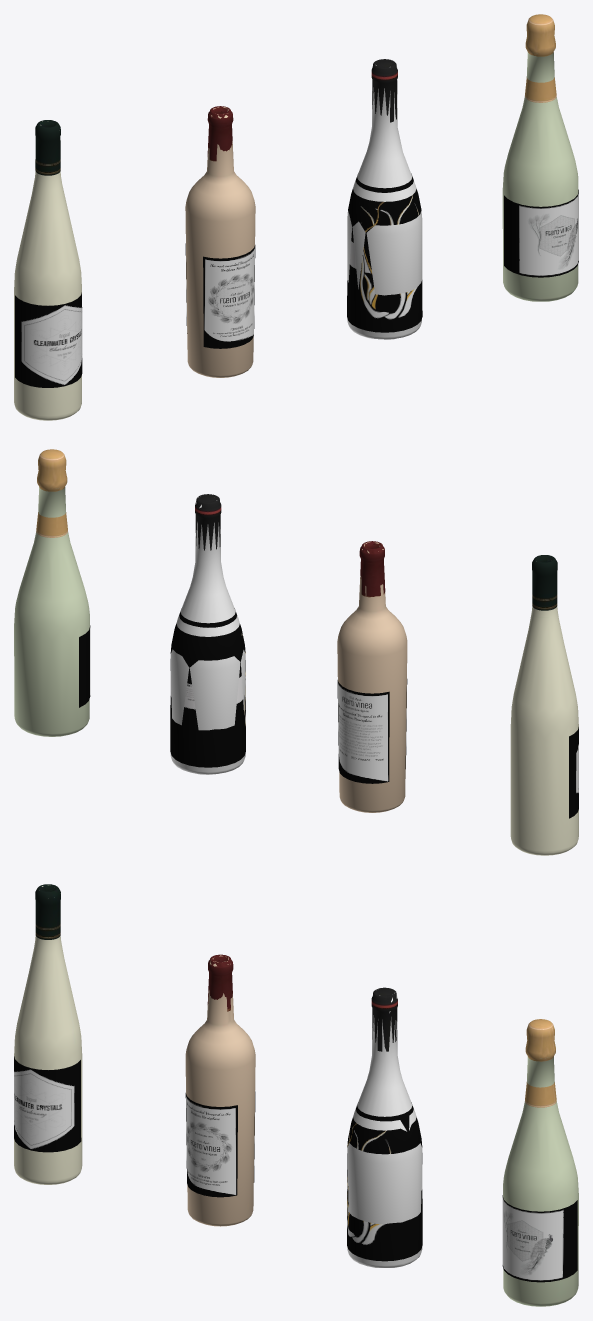
The model's file is wine_bottles_01.glb.
3 renders of one model, top to bottom at view 1: azimuth 30°, elevation 25°; view 2: azimuth 150°, elevation 25°; view 3: azimuth 330°, elevation 25°, orthographic.
Parts seen in each view (by area): view 1: wine_bottles_01_champagne, wine_bottles_01_alsace, wine_bottles_01_burgundy, wine_bottles_01_bordeaux; view 2: wine_bottles_01_champagne, wine_bottles_01_alsace, wine_bottles_01_burgundy, wine_bottles_01_bordeaux; view 3: wine_bottles_01_champagne, wine_bottles_01_alsace, wine_bottles_01_burgundy, wine_bottles_01_bordeaux.
Part boxes in pixels (bbox=[...]): wine_bottles_01_champagne: bbox=[502, 14, 578, 301]; wine_bottles_01_alsace: bbox=[14, 120, 82, 420]; wine_bottles_01_burgundy: bbox=[347, 59, 422, 339]; wine_bottles_01_bordeaux: bbox=[185, 106, 255, 377]; wine_bottles_01_champagne: bbox=[14, 449, 90, 736]; wine_bottles_01_alsace: bbox=[510, 555, 578, 855]; wine_bottles_01_burgundy: bbox=[170, 494, 245, 774]; wine_bottles_01_bordeaux: bbox=[337, 541, 407, 812]; wine_bottles_01_champagne: bbox=[502, 1019, 578, 1306]; wine_bottles_01_alsace: bbox=[14, 884, 82, 1184]; wine_bottles_01_burgundy: bbox=[347, 987, 422, 1267]; wine_bottles_01_bordeaux: bbox=[185, 954, 255, 1226].
Bounding box in the file's own units: 0.6763 × 0.3314 × 0.0805.
9 materials, 6 textured.
